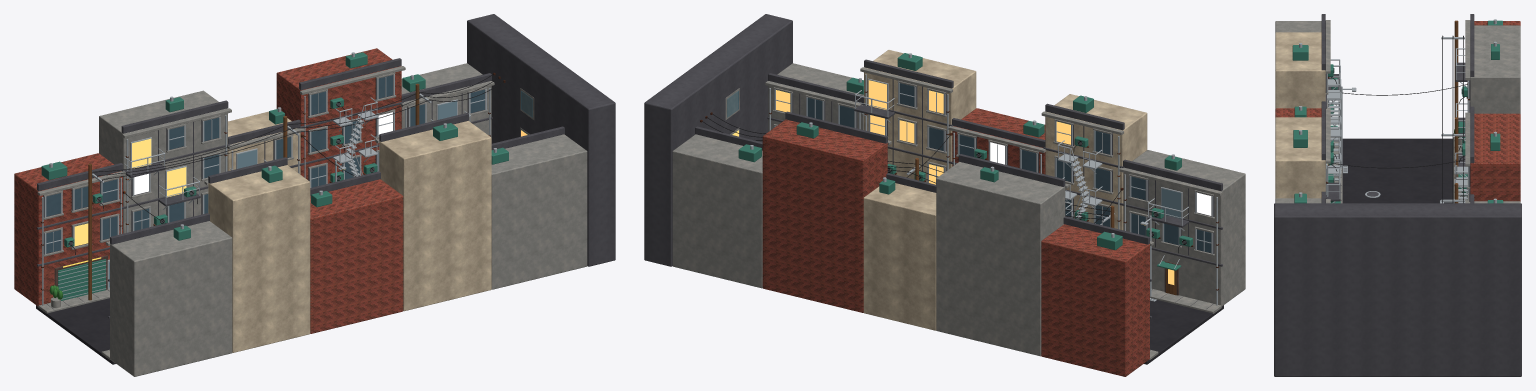
The model's file is GameArcade.glb.
The picture shows the model from 3 angles, left to right: view 1: azimuth 30°, elevation 25°; view 2: azimuth 150°, elevation 25°; view 3: azimuth 270°, elevation 25°; orthographic projection.
Parts seen in each view (by area): view 1: JP4_L0_concrete, JP4_L3_plaster, JP4_endwall_concrete_dark, JP4_L1_plaster, JP4_L4_concrete, JP4_L2_brick, JP4_R1_concrete, JP4_R0_brick, JP4_R3_brick, JP4_R1_concrete_dark, JP4_R3_concrete_dark, JP4_R0_concrete_dark (+30 smaller); view 2: JP4_R1_concrete, JP4_R3_brick, JP4_endwall_concrete_dark, JP4_R0_brick, JP4_R4_concrete, JP4_L0_concrete, JP4_R2_plaster, JP4_L3_plaster, JP4_L1_plaster, JP4_L0_concrete_dark, JP4_L4_concrete, JP4_L3_concrete_dark (+27 smaller); view 3: JP4_endwall_concrete_dark, JP4_ground_asphalt, JP4_R1_concrete, JP4_R3_brick, JP4_L3_plaster, JP4_L1_plaster, JP4_L1_util_metal, JP4_street_rubber, JP4_street_wood, JP4_R1_concrete_dark, JP4_L0_concrete, JP4_L3_concrete_dark (+16 smaller).
Boxes of the visible parts, box(x1,y1,x2,y2) form: JP4_L0_concrete: box(106, 221, 232, 376); JP4_L3_plaster: box(379, 121, 491, 311); JP4_endwall_concrete_dark: box(467, 14, 615, 266); JP4_L1_plaster: box(208, 165, 310, 352); JP4_L4_concrete: box(491, 134, 587, 289); JP4_L2_brick: box(310, 179, 403, 333); JP4_R1_concrete: box(99, 90, 231, 233); JP4_R0_brick: box(14, 153, 122, 306); JP4_R3_brick: box(276, 48, 401, 183); JP4_R1_concrete_dark: box(121, 100, 229, 231); JP4_R3_concrete_dark: box(299, 58, 403, 187); JP4_R0_concrete_dark: box(37, 163, 124, 266); JP4_R1_concrete: box(936, 161, 1069, 356); JP4_R3_brick: box(762, 119, 887, 312); JP4_endwall_concrete_dark: box(644, 14, 792, 266); JP4_R0_brick: box(1041, 224, 1149, 376); JP4_R4_concrete: box(672, 134, 762, 288); JP4_L0_concrete: box(1119, 150, 1245, 306); JP4_R2_plaster: box(863, 183, 936, 330); JP4_L3_plaster: box(864, 50, 976, 182); JP4_L1_plaster: box(1045, 94, 1147, 230); JP4_L0_concrete_dark: box(1121, 159, 1222, 266); JP4_L4_concrete: box(765, 63, 863, 131); JP4_L3_concrete_dark: box(854, 59, 953, 171); JP4_endwall_concrete_dark: box(1274, 203, 1521, 376); JP4_ground_asphalt: box(1342, 138, 1452, 203); JP4_R1_concrete: box(1465, 24, 1520, 113); JP4_R3_brick: box(1470, 113, 1520, 201); JP4_L3_plaster: box(1275, 117, 1325, 198); JP4_L1_plaster: box(1275, 32, 1325, 108); JP4_L1_util_metal: box(1299, 43, 1341, 182); JP4_street_rubber: box(1331, 35, 1467, 203); JP4_street_wood: box(1454, 20, 1458, 203); JP4_R1_concrete_dark: box(1455, 18, 1474, 136); JP4_L0_concrete: box(1275, 20, 1330, 32); JP4_L3_concrete_dark: box(1321, 110, 1340, 201).
Size of the model in its own units: 38.3 by 12.82 by 16.76.
53 materials, 8 textured.
